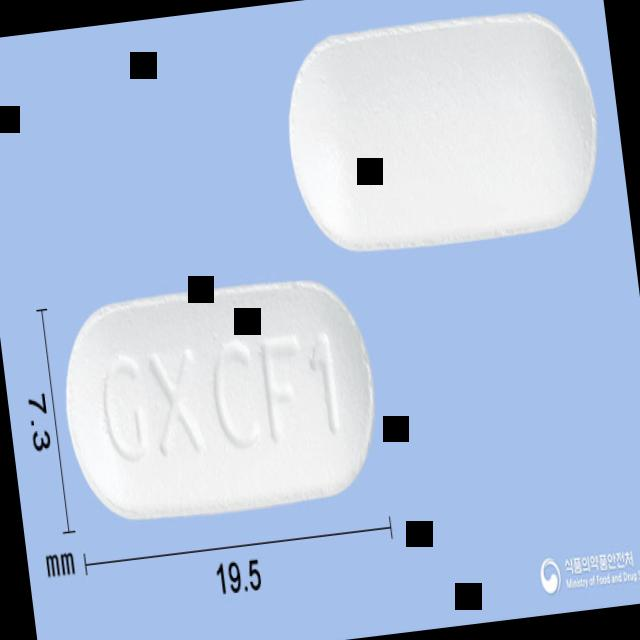Clarione -500mg: (52, 268, 388, 532), (277, 0, 610, 260)
